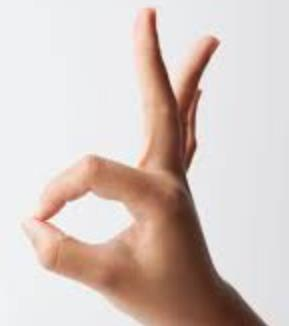left: (22, 5, 224, 298)
